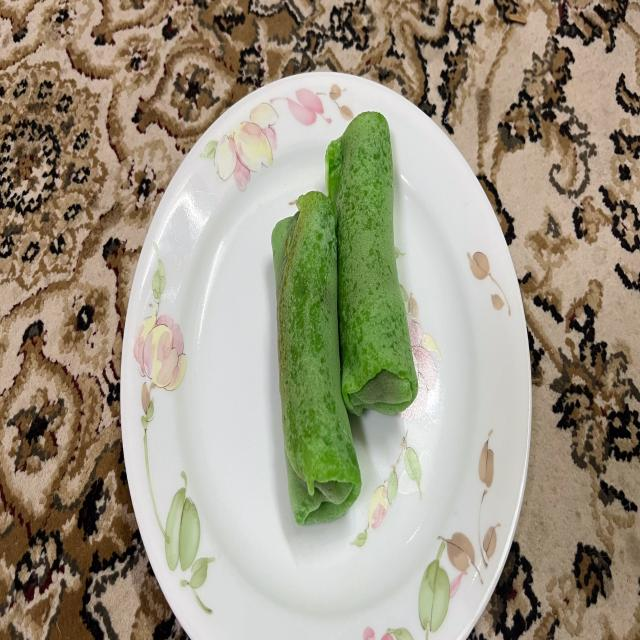Kuih-Ketayap: (271, 191, 361, 524), (325, 111, 418, 416)
